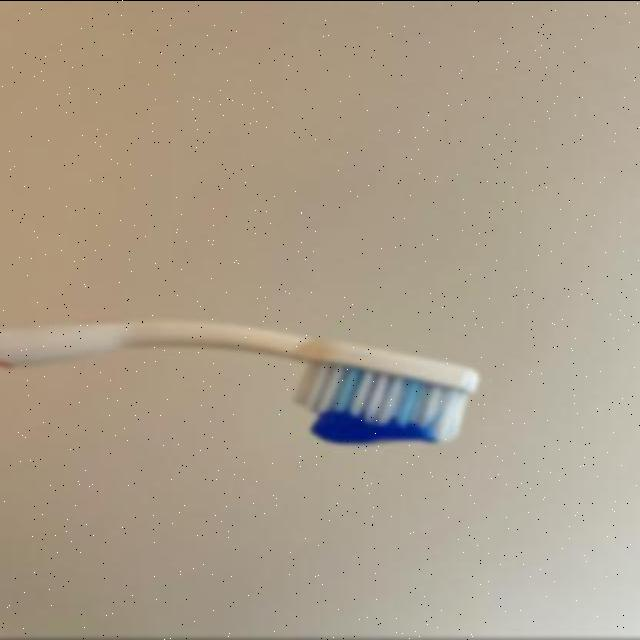toothbrush: (0, 307, 498, 463)
